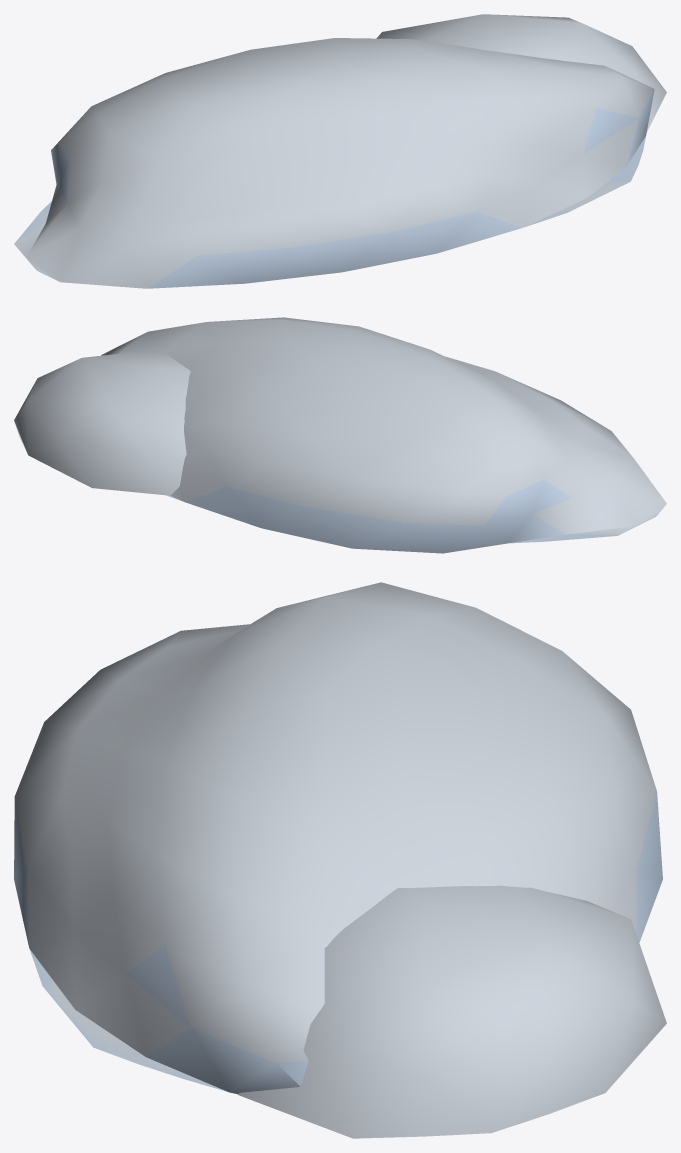
File: snow_drift.glb
3 renders of one model, top to bottom at view 1: azimuth 30°, elevation 25°; view 2: azimuth 150°, elevation 25°; view 3: azimuth 270°, elevation 25°, orthographic. The views are drawn at different scales.
Visible parts, largest first — view 1: snow_drift; view 2: snow_drift; view 3: snow_drift.
Part boxes in pixels (x1,y1,x2,y2): snow_drift: (14, 14, 666, 288); snow_drift: (14, 317, 666, 553); snow_drift: (14, 582, 666, 1138).
Size of the model in its own units: 2.44 by 0.427 by 1.34.
